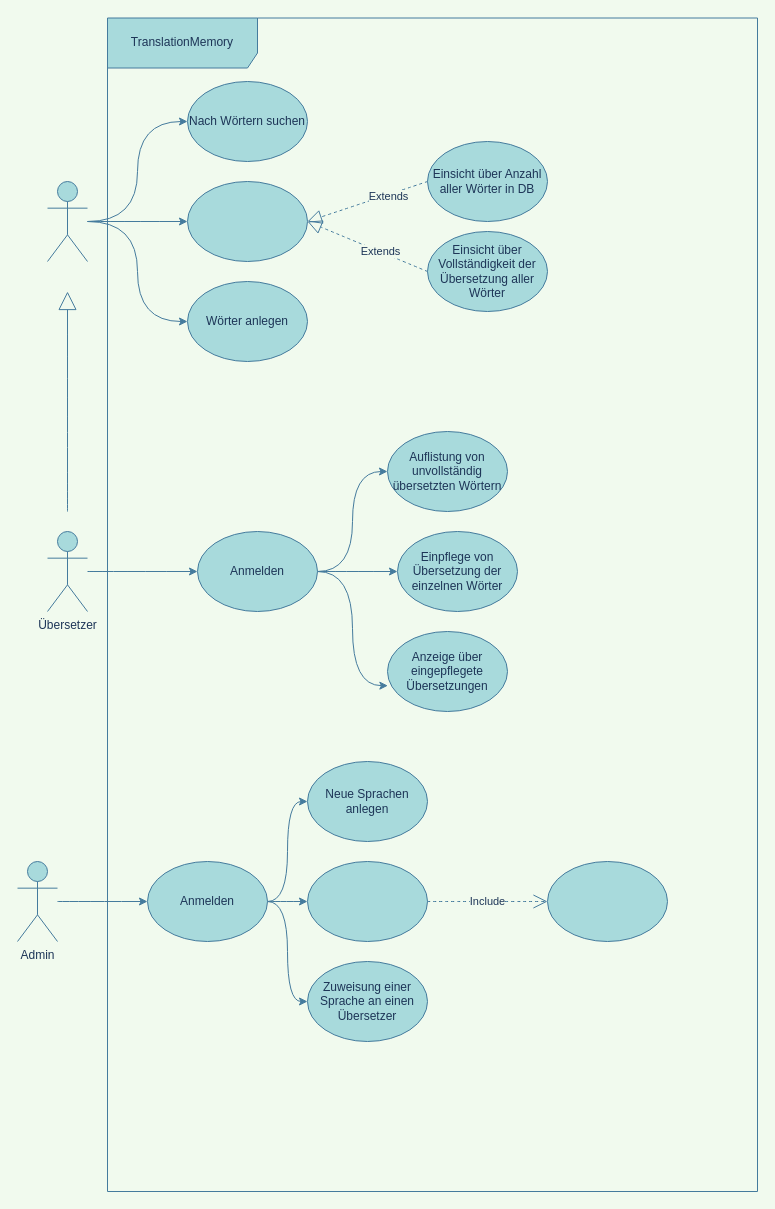
Some shapes in this 775 by 1209 pixel diagram are drawn without their labels. The centre of each missing label's shape, as x and y in pixels:
Einsicht über angelegte Wörter: point 247,221
Suche nach deren Übersetzungen: point 607,901
Suche nach Wörtern: point 367,901
User: point 67,221
